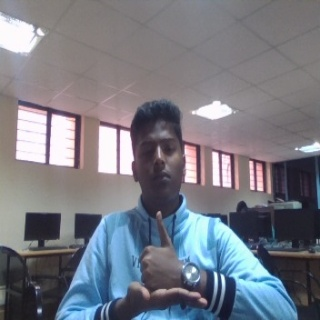Face: (128, 97, 187, 209)
Help: (124, 209, 210, 319)
